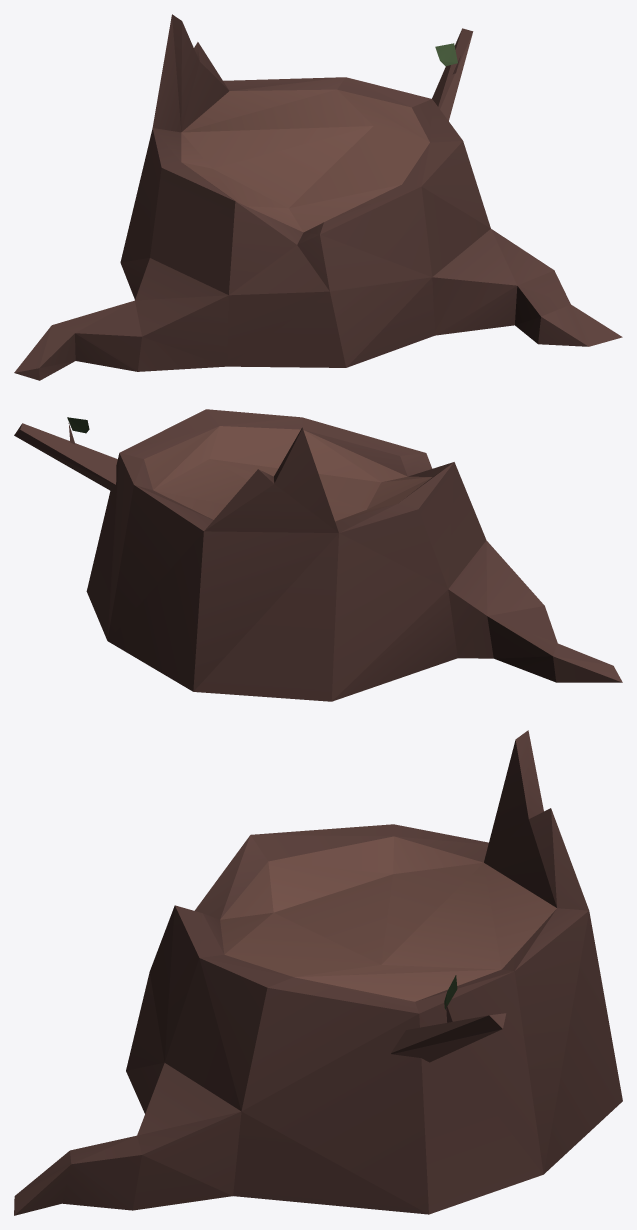
File: stump.glb
3 renders of one model, top to bottom at view 1: azimuth 30°, elevation 25°; view 2: azimuth 150°, elevation 25°; view 3: azimuth 270°, elevation 25°, orthographic. The views are drawn at different scales.
Parts seen in each view (by area): view 1: stump; view 2: stump; view 3: stump.
Boxes of the visible parts, x1,y1,x2,y2 form: stump: (14, 14, 622, 380); stump: (14, 409, 622, 701); stump: (14, 730, 622, 1215).
Bounding box in the file's own units: 1.53 × 0.7 × 1.17.
